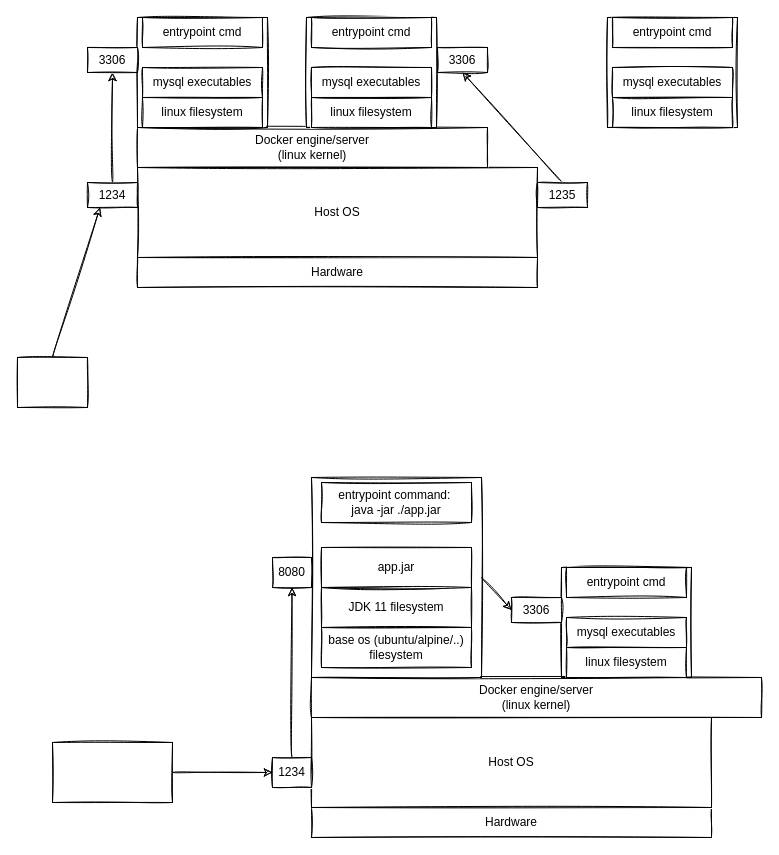
The diagram is 779 pixels wide and 855 high, and some of its shapes have lost their labels. Each missing label, with the box of its shape:
client: (52, 742, 172, 802)
java app: (16, 356, 88, 408)
